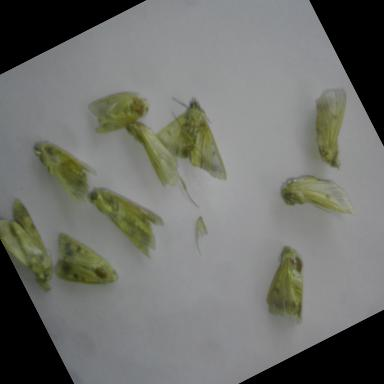abw: (141, 81, 248, 205), (82, 162, 182, 274), (242, 238, 334, 338), (292, 79, 380, 178), (0, 187, 72, 302), (38, 216, 125, 310), (27, 120, 111, 217), (273, 155, 362, 246), (74, 72, 160, 150), (119, 106, 190, 199)
